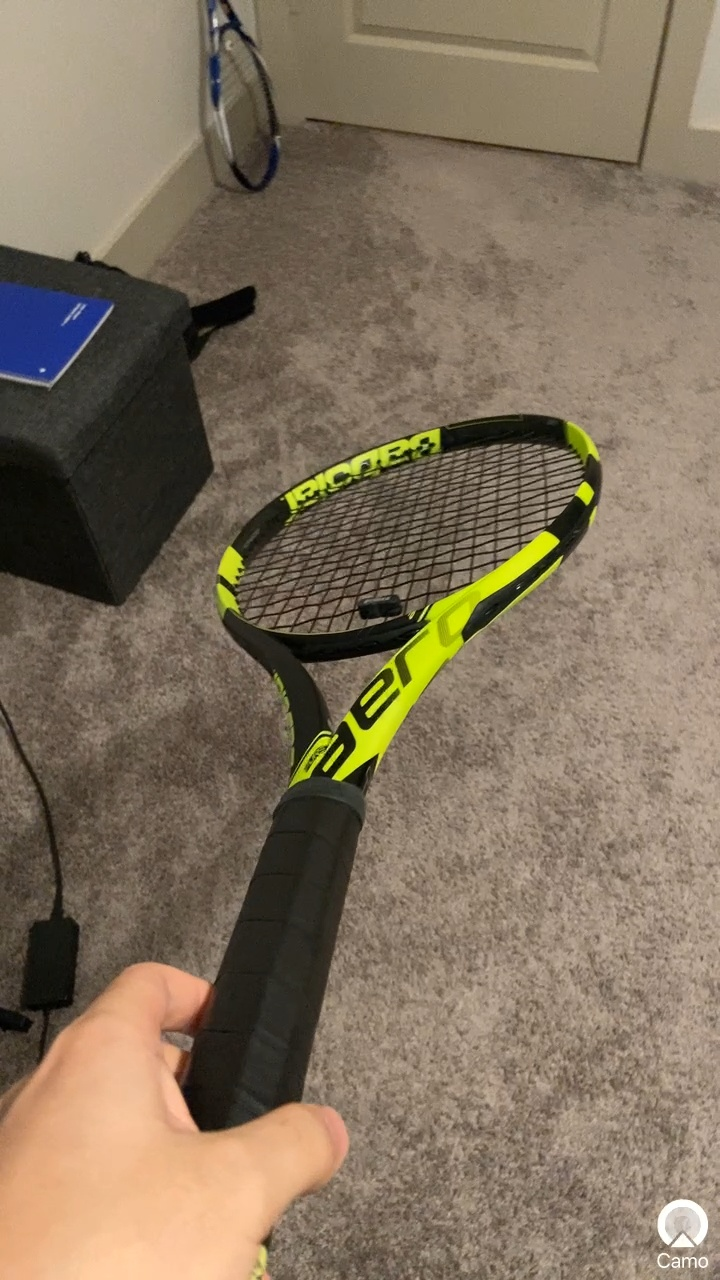Tennis_Racquet: (130, 397, 640, 1217)
